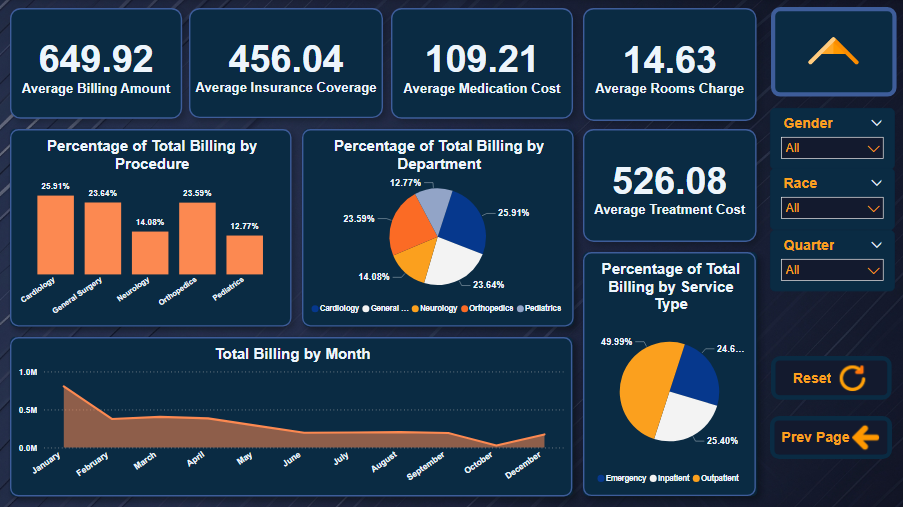

The dashboard page shown, as its layout file describes it:
{"tool":"powerbi","page":{"name":"Page 2","canvas":[1280,720],"ordinal":1},"visuals":[{"type":"image","box":[1093.9,11.4,178,127.3],"z":2000},{"type":"actionButton","box":[1093.9,506.1,171.4,62],"z":3000},{"type":"actionButton","box":[1093,591,172.6,61.5],"z":4000},{"type":"slicer","fields":{"Values":["patients.Gender"]},"box":[1093.1,155.2,177.4,87],"z":5000},{"type":"slicer","fields":{"Values":["patients.Race"]},"box":[1093.1,239.9,177.4,87.9],"z":6000},{"type":"slicer","fields":{"Values":["visits.Date of Visit.Variation.Date Hierarchy.Quarter"]},"box":[1093.1,327.8,177.4,87],"z":7000},{"type":"card","fields":{"Values":["KPIs.Average Treatment Cost"]},"box":[828.2,184.6,245.6,159.6],"z":11000},{"type":"card","fields":{"Values":["KPIs.Average Billing Amount"]},"box":[15.6,12.8,243.8,157.3],"z":12000},{"type":"card","fields":{"Values":["KPIs.Average Insurance Coverage"]},"box":[269.3,12.8,275,155.9],"z":13000},{"type":"card","fields":{"Values":["KPIs.Average Medication Cost"]},"box":[555.6,12.8,258,157.3],"z":14000},{"type":"card","fields":{"Values":["KPIs.Average Rooms Charge"]},"box":[828.2,12.5,245.6,159.6],"z":15000},{"type":"shape","box":[16.1,184.6,383.6,279.7],"z":16000},{"type":"shape","box":[430.3,184.6,383.6,279.7],"z":17000},{"type":"shape","box":[828.2,358.5,247.4,346],"z":18000},{"type":"shape","box":[16.2,478.4,798.4,226.3],"z":19000},{"type":"pieChart","title":"Percentage of Total Billing by Department","fields":{"Y":["Sum(visits.Total Billing)"],"Category":["departments.Department"]},"box":[429.9,184.2,384.6,279.6],"z":20000},{"type":"pieChart","title":"Percentage of Total Billing by Service Type","fields":{"Y":["Sum(visits.Total Billing)"],"Category":["visits.Service Type"]},"box":[828.4,358.7,245.2,345.8],"z":21000},{"type":"clusteredColumnChart","title":"Percentage of Total Billing by Procedure","fields":{"Category":["departments.Department"],"Y":["Divide(Sum(visits.Total Billing), ScopedEval(Sum(visits.Total Billing), []))"]},"box":[16.2,184.2,399.2,279.6],"z":22000},{"type":"lineChart","title":" Total Billing by Month","fields":{"Category":["visits.Date of Visit.Variation.Date Hierarchy.Month"],"Y":["Sum(visits.Total Billing)"]},"box":[16.2,478.4,796.8,226.3],"z":23000}]}

Visuals, with their boxes in screenshot pixels (x1, y1, x2, y2), scaled from the page's 1280x720 canvas onto the 903x507 screenshot:
image: crop(772, 8, 897, 98)
actionButton: crop(772, 356, 893, 400)
actionButton: crop(771, 416, 893, 459)
slicer - patients.Gender: crop(771, 109, 896, 171)
slicer - patients.Race: crop(771, 169, 896, 231)
slicer - visits.Date of Visit.Variation.Date Hierarchy.Quarter: crop(771, 231, 896, 292)
card - KPIs.Average Treatment Cost: crop(584, 130, 758, 242)
card - KPIs.Average Billing Amount: crop(11, 9, 183, 120)
card - KPIs.Average Insurance Coverage: crop(190, 9, 384, 119)
card - KPIs.Average Medication Cost: crop(392, 9, 574, 120)
card - KPIs.Average Rooms Charge: crop(584, 9, 758, 121)
shape: crop(11, 130, 282, 327)
shape: crop(304, 130, 574, 327)
shape: crop(584, 252, 759, 496)
shape: crop(11, 337, 575, 496)
"Percentage of Total Billing by Department" pieChart: crop(303, 130, 575, 327)
"Percentage of Total Billing by Service Type" pieChart: crop(584, 253, 757, 496)
"Percentage of Total Billing by Procedure" clusteredColumnChart: crop(11, 130, 293, 327)
" Total Billing by Month" lineChart: crop(11, 337, 574, 496)
